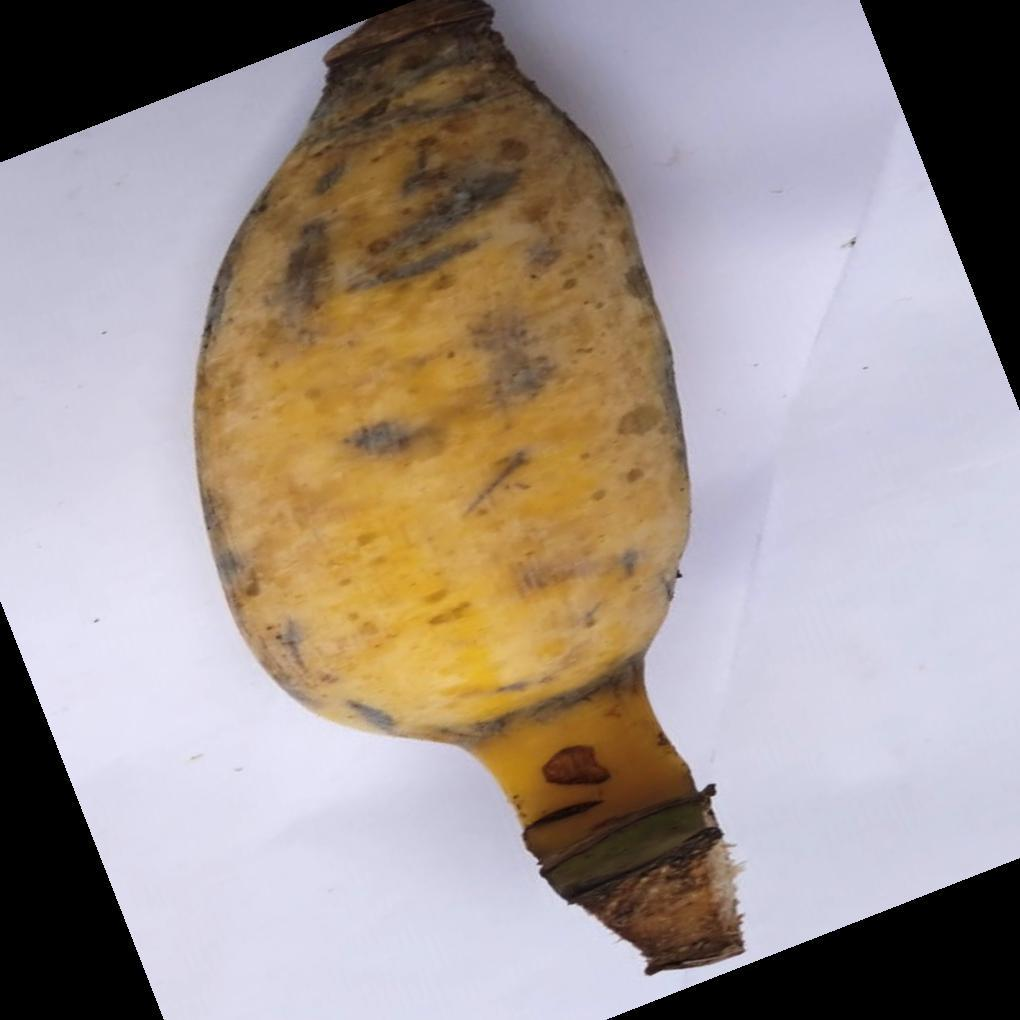Banana Ripe: (168, 11, 963, 1020)
